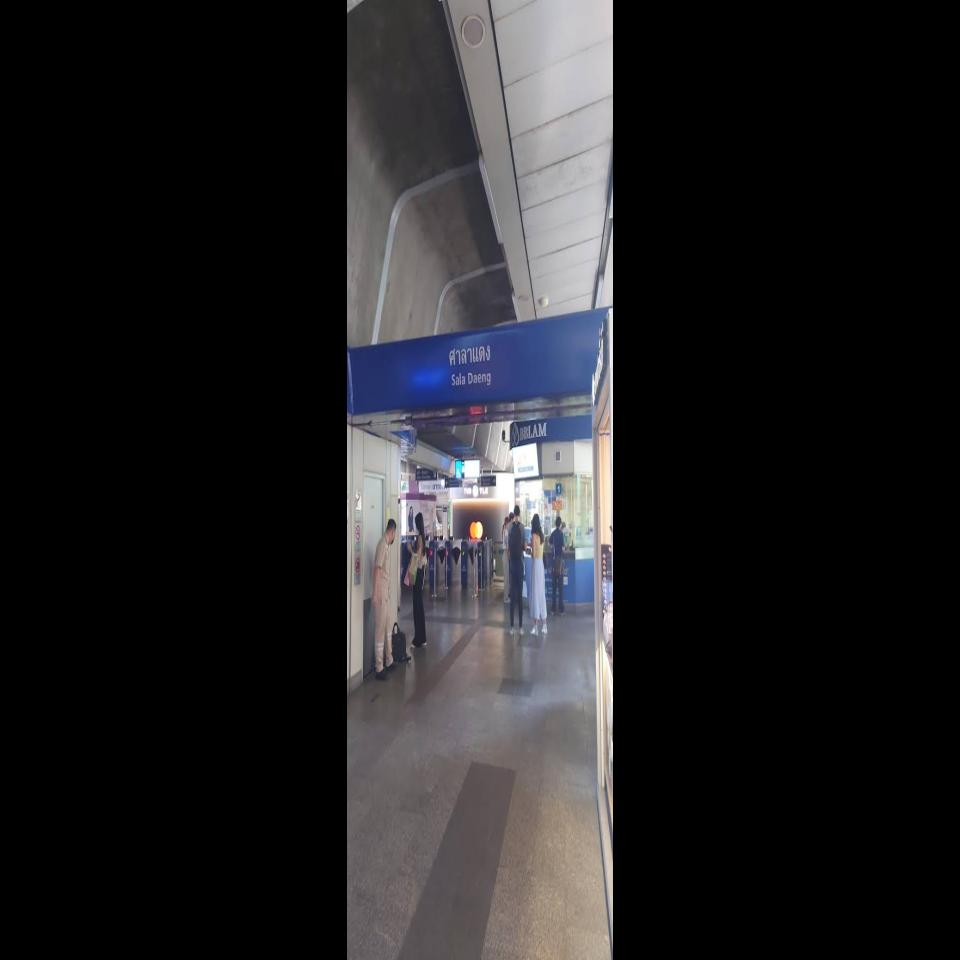Sala Daeng: (448, 344, 492, 388)
